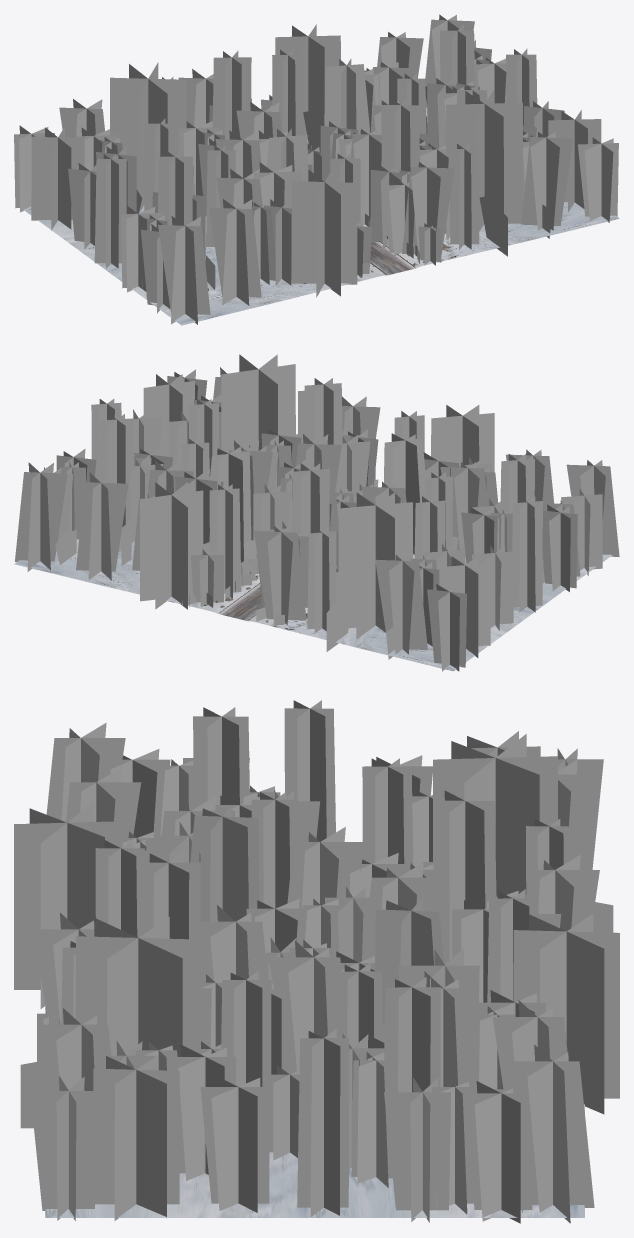
File: road_snow_1.FBX
3 renders of one model, top to bottom at view 1: azimuth 30°, elevation 25°; view 2: azimuth 150°, elevation 25°; view 3: azimuth 270°, elevation 25°, orthographic. The views are drawn at different scales.
Parts seen in each view (by area): view 1: snowtrees019, snowtrees160, road003, snowtrees044, snowtrees072, snowtrees066, snowtrees075, snowtrees177, snowtrees070, snowtrees135, snowtrees190, snowtrees155 (+49 smaller); view 2: snowtrees044, snowtrees135, road004, snowtrees160, snowtrees188, snowtrees182, snowtrees039, snowtrees061, snowtrees070, snowtrees019, snowtrees075, snowtrees074 (+47 smaller); view 3: snowtrees160, snowtrees135, snowtrees191, snowtrees019, snowtrees044, snowtrees188, snowtrees186, snowtrees192, snowtrees185, snowtrees189, snowtrees190, snowtrees037 (+55 smaller).
Part boxes in pixels (box(x1,y1,x2,y2)): snowtrees019: box(291, 168, 357, 297); snowtrees160: box(446, 89, 523, 231); road003: box(99, 202, 619, 325); snowtrees044: box(110, 62, 186, 213); snowtrees072: box(158, 216, 210, 324); snowtrees066: box(209, 199, 261, 305); snowtrees075: box(31, 126, 84, 230); snowtrees177: box(521, 132, 573, 230); snowtrees070: box(94, 154, 126, 268); snowtrees135: box(275, 24, 340, 135); snowtrees190: box(578, 137, 618, 222); snowtrees155: box(402, 162, 454, 254); snowtrees044: box(338, 492, 412, 639); snowtrees135: box(140, 482, 203, 609); road004: box(14, 539, 536, 671); snowtrees160: box(221, 354, 295, 453); snowtrees188: box(15, 462, 67, 571); snowtrees182: box(76, 472, 128, 580); snowtrees039: box(254, 526, 306, 624); snowtrees061: box(375, 555, 427, 654); snowtrees070: box(512, 496, 542, 612); snowtrees019: box(431, 405, 494, 472); snowtrees075: box(439, 556, 490, 657); snowtrees074: box(427, 584, 466, 671); snowtrees160: box(75, 917, 200, 1056); snowtrees135: box(513, 913, 619, 1114); snowtrees191: box(93, 1055, 179, 1220); snowtrees019: box(14, 802, 120, 1008); snowtrees044: box(433, 734, 557, 897); snowtrees188: box(508, 1044, 594, 1223); snowtrees186: box(297, 1029, 349, 1216); snowtrees192: box(200, 1074, 269, 1212); snowtrees185: box(463, 1081, 532, 1223); snowtrees189: box(384, 1077, 450, 1222); snowtrees190: box(30, 1075, 97, 1220); snowtrees037: box(433, 790, 496, 964).
Size of the model in its own units: 25075 by 7229 by 17960.
